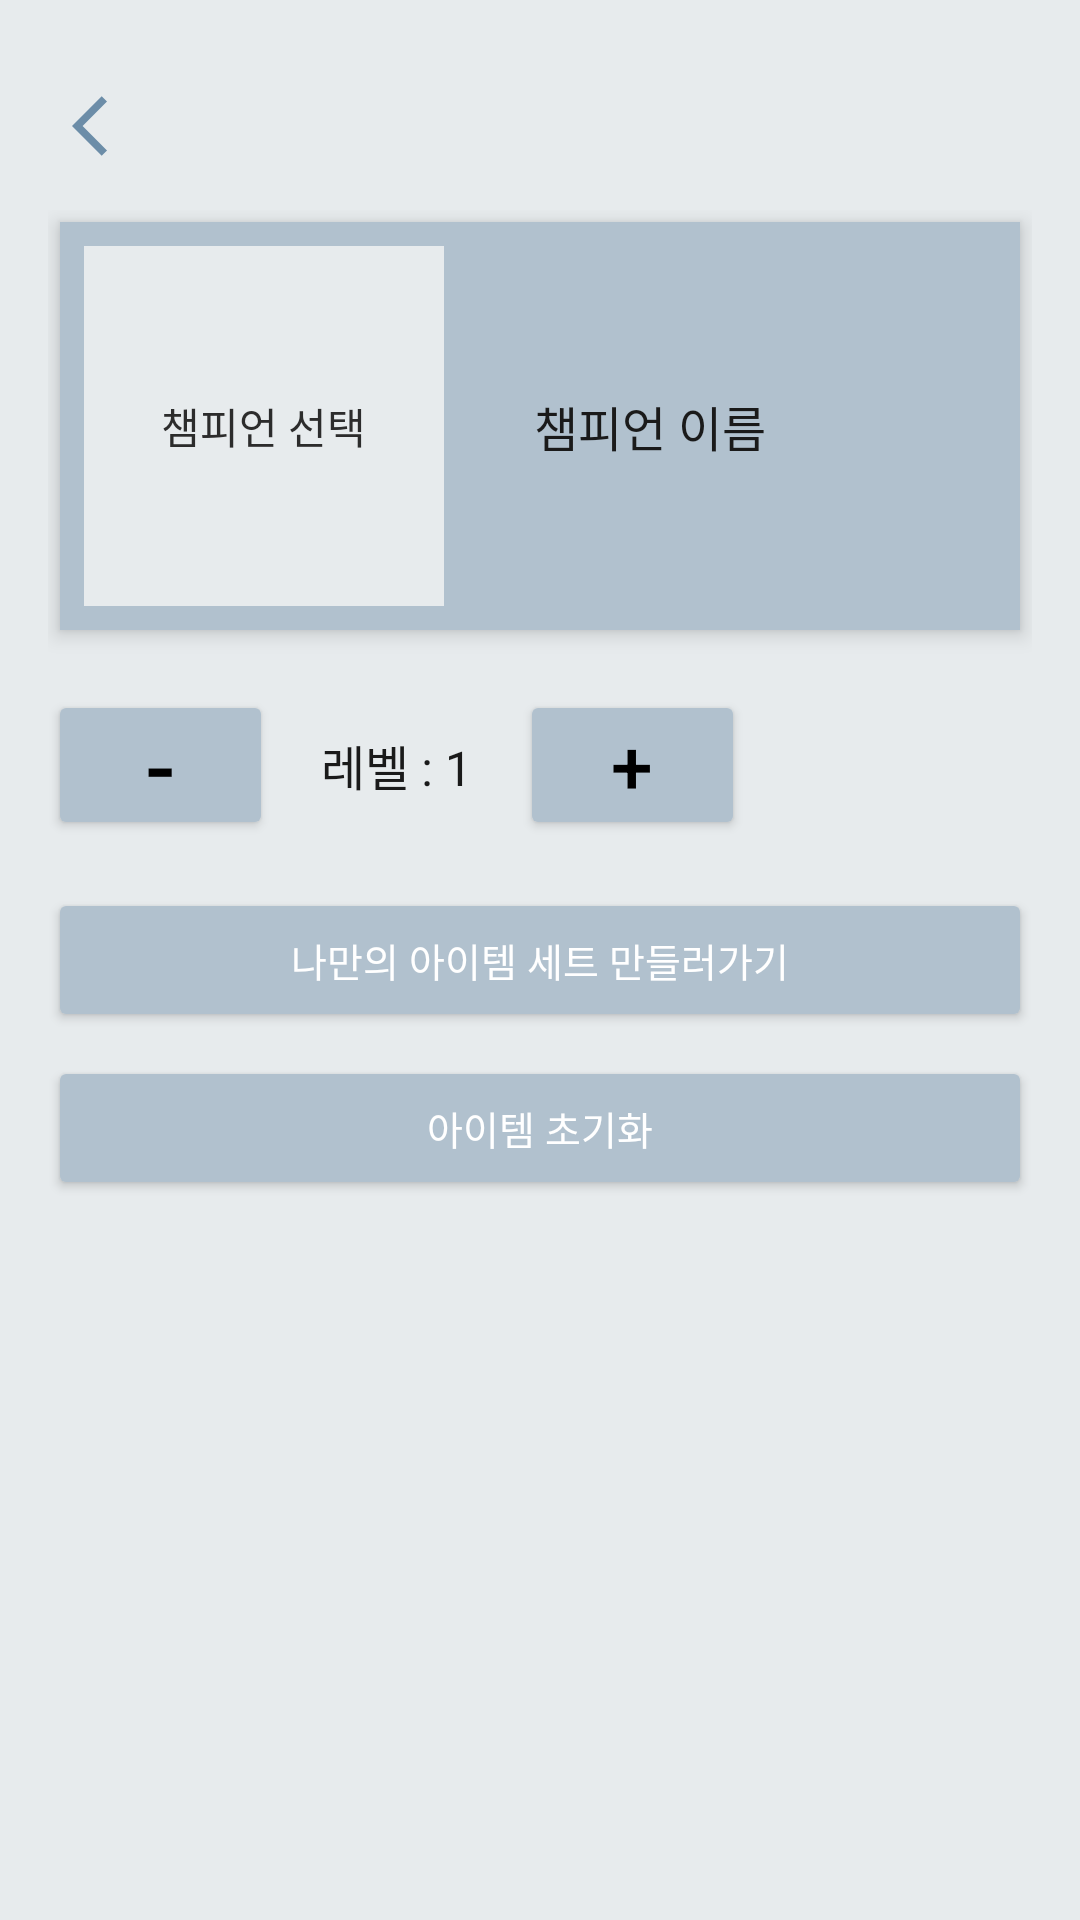

Screen size 1080px x 1920px. Icon name, then its box in pixels as (x1, y1, x2, y2):
뒤로 가기: (72, 96, 107, 156)
